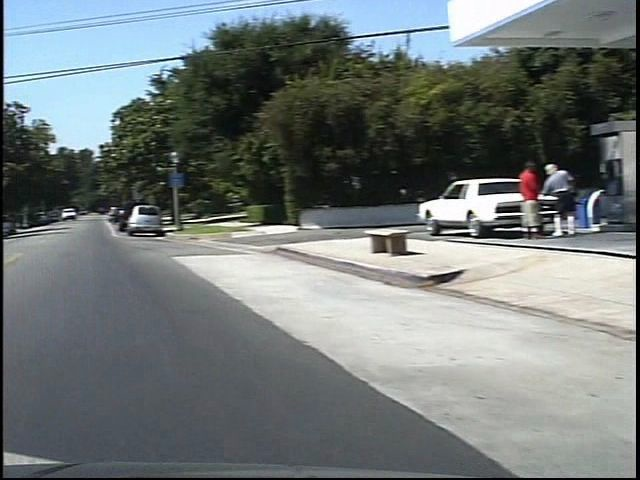person: (509, 159, 550, 242), (498, 156, 528, 242)
